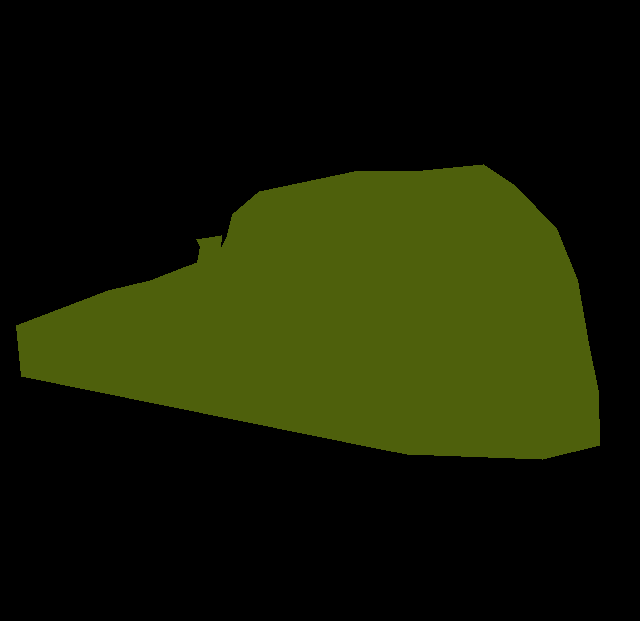Train: (16, 164, 600, 459)
